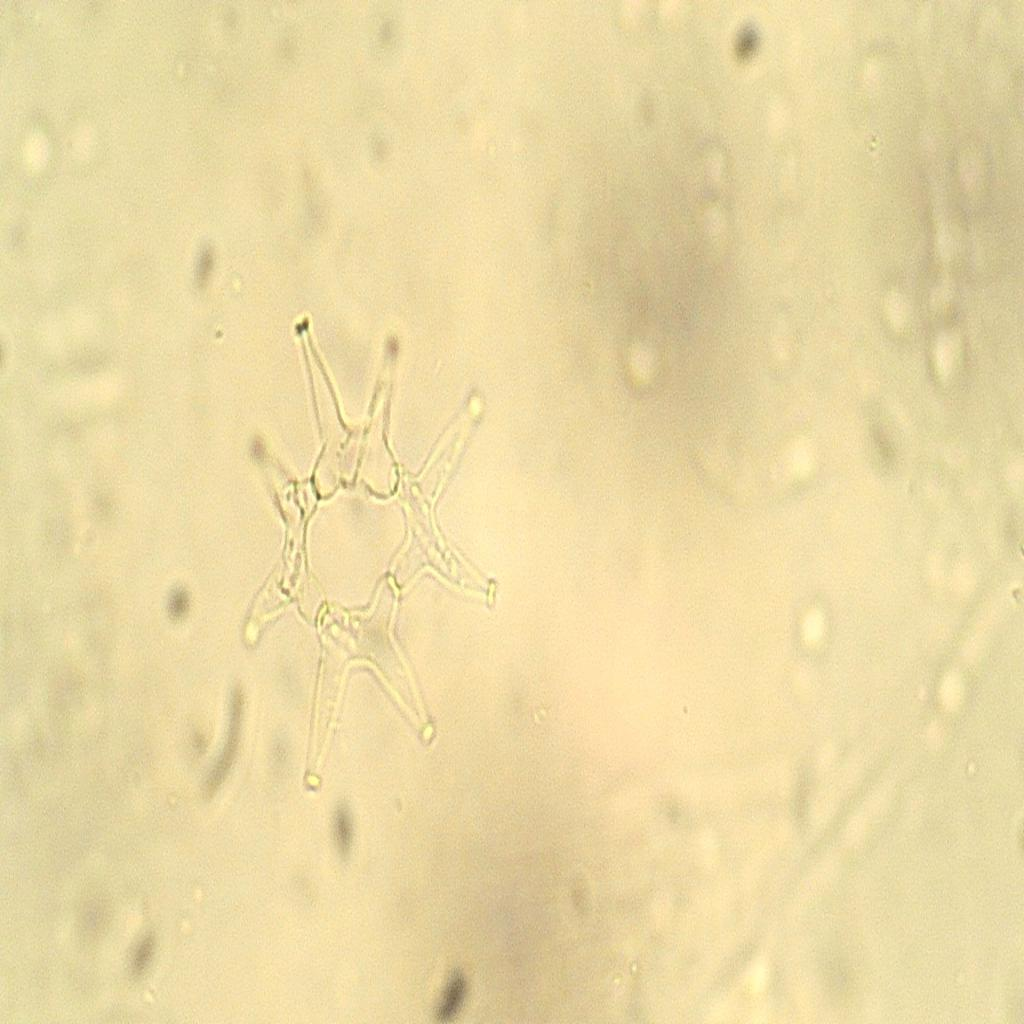Pediastrum_1F0: (221, 289, 515, 813)
